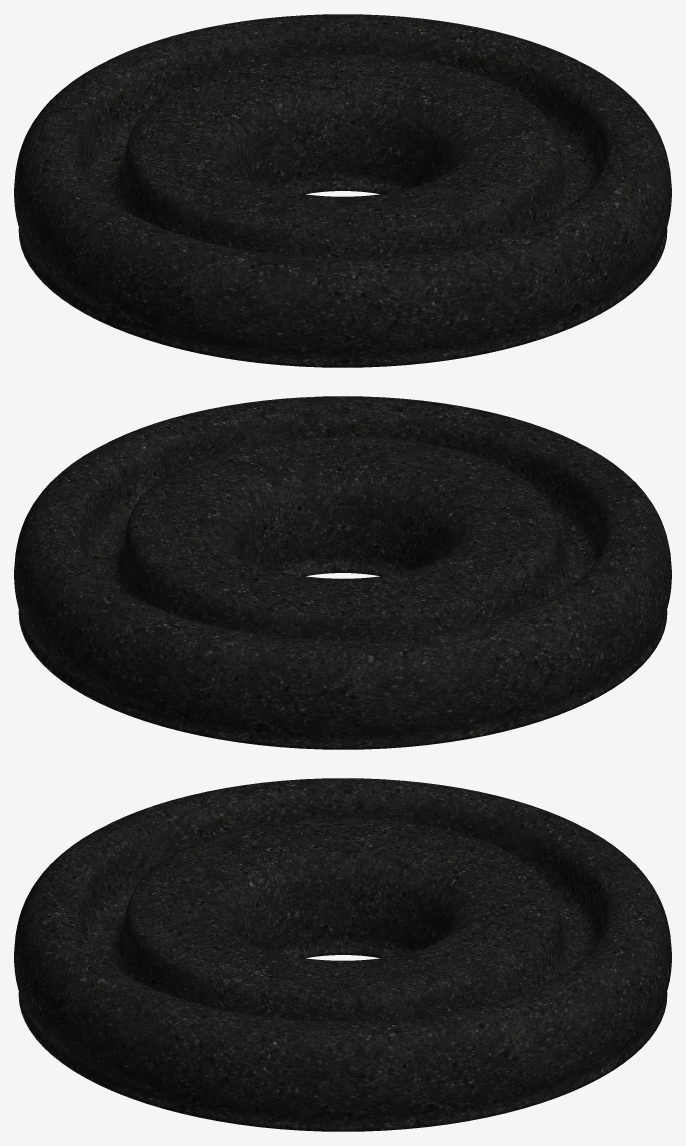
The model's file is tzaar-tzaar-black.glb.
3 views of the same model, one above another, from view 1: azimuth 30°, elevation 25°; view 2: azimuth 150°, elevation 25°; view 3: azimuth 270°, elevation 25° (orthographic).
Parts seen in each view (by area): view 1: tzaar-tzaar-black; view 2: tzaar-tzaar-black; view 3: tzaar-tzaar-black.
Part boxes in pixels (x1,y1,x2,y2): tzaar-tzaar-black: [14, 14, 671, 367]; tzaar-tzaar-black: [14, 396, 671, 749]; tzaar-tzaar-black: [14, 778, 671, 1131].
Bounding box in the file's own units: 0.028 × 0.00435 × 0.028.
Materials: 1 (1 with a texture image).
